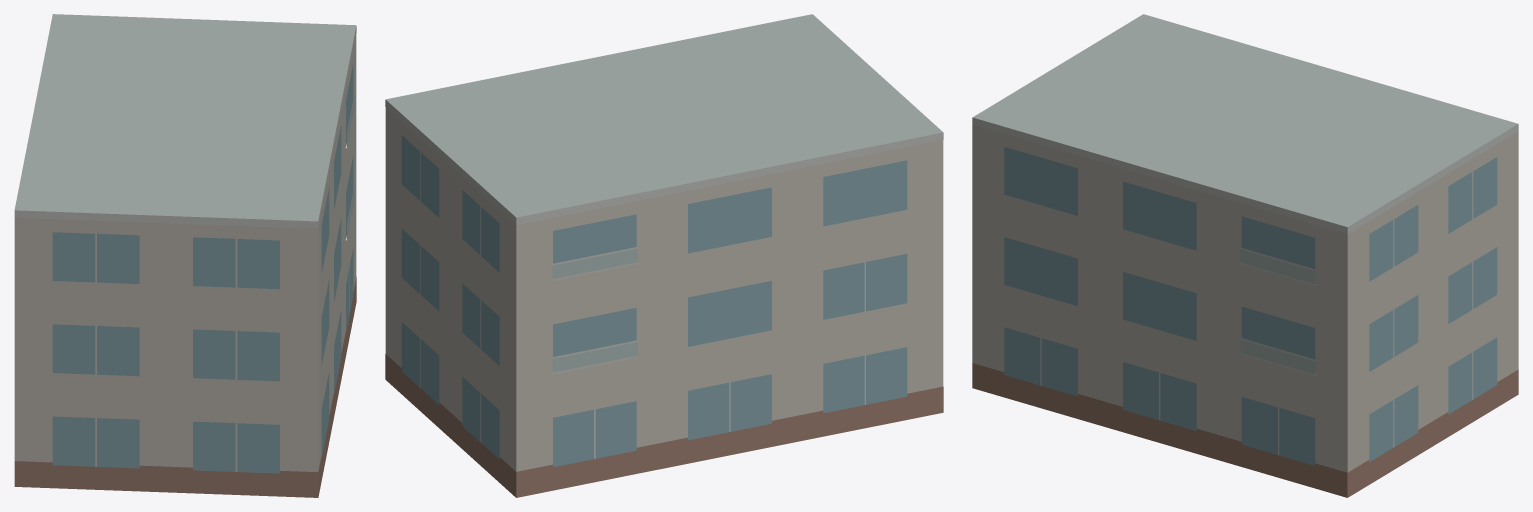
File: survey-upis-32822387.glb
3 renders of one model, left to right at view 1: azimuth 30°, elevation 25°; view 2: azimuth 150°, elevation 25°; view 3: azimuth 270°, elevation 25°, orthographic. The views are drawn at different scales.
Visible parts, largest first — view 1: survey-upis-32822387.tmp; view 2: survey-upis-32822387.tmp; view 3: survey-upis-32822387.tmp.
Part boxes in pixels (x1=…): survey-upis-32822387.tmp: x1=14, y1=14, x2=356, y2=497; survey-upis-32822387.tmp: x1=385, y1=14, x2=943, y2=497; survey-upis-32822387.tmp: x1=972, y1=14, x2=1518, y2=497.
Bounding box in the file's own units: 15.46 × 9.15 × 16.74.
